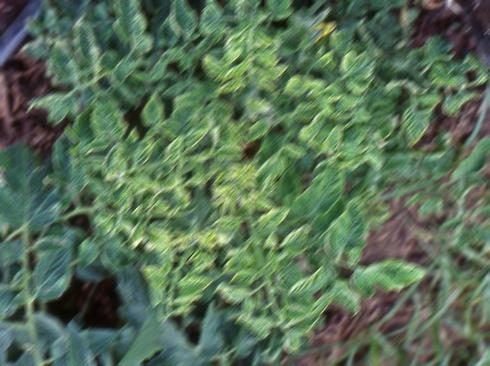Tomato mold leaf: (1, 130, 67, 228), (349, 257, 434, 302), (295, 164, 350, 220), (106, 0, 157, 55), (326, 191, 371, 253), (26, 89, 84, 130), (167, 99, 208, 151), (42, 35, 83, 87), (75, 21, 106, 85), (90, 93, 128, 140), (341, 51, 382, 92), (328, 276, 366, 320), (289, 260, 333, 295), (165, 0, 199, 42), (400, 108, 430, 150), (137, 91, 169, 130), (203, 55, 236, 80), (259, 205, 292, 229), (243, 118, 271, 142), (324, 123, 345, 154), (279, 76, 308, 98)
